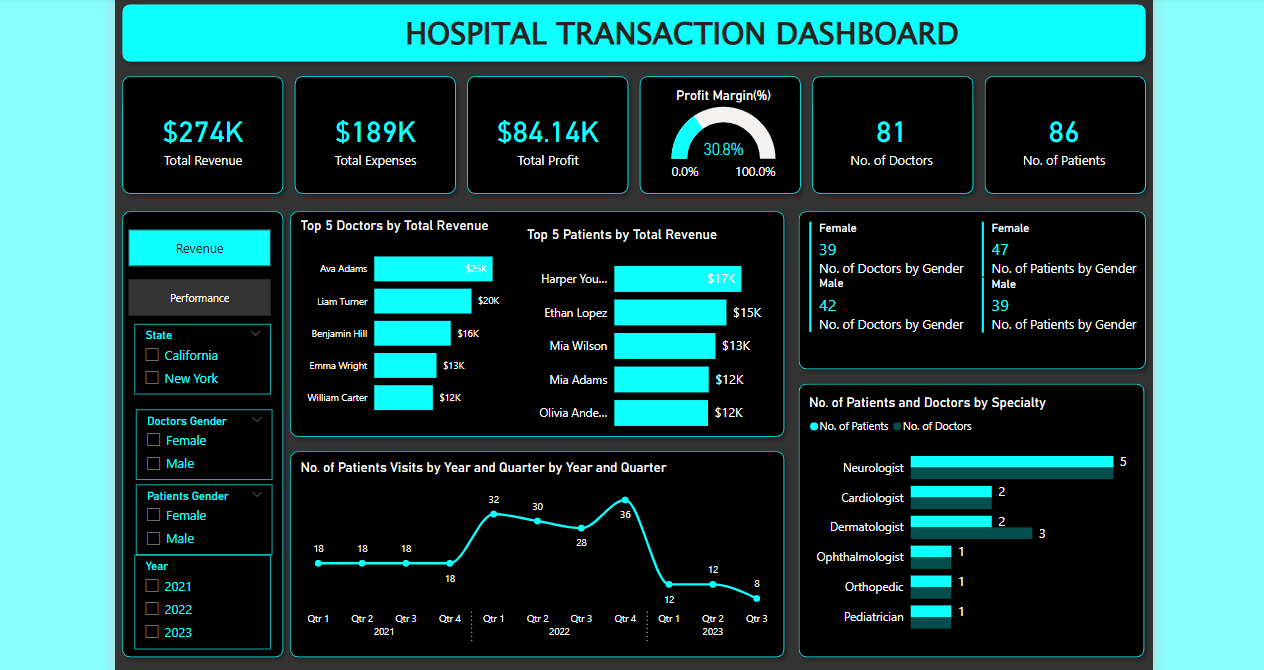

Layout of this report page (visuals, bound fields, positions):
{"tool":"powerbi","page":{"name":"Performance","canvas":[1300,850],"ordinal":1},"visuals":[{"type":"shape","box":[0,0,1299.4,90.1],"z":0},{"type":"shape","box":[0,90.1,219.7,165.2],"z":1000},{"type":"shape","box":[215.9,90.1,219.7,165.2],"z":2000},{"type":"shape","box":[1079.7,90.1,219.7,165.2],"z":3000},{"type":"shape","box":[863.8,90.1,219.7,165.2],"z":4000},{"type":"shape","box":[647.8,90.1,219.7,165.2],"z":5000},{"type":"shape","box":[431.9,90.1,219.7,165.2],"z":6000},{"type":"shape","box":[0,259.1,219.7,576.5],"z":7000},{"type":"shape","box":[210.3,259.1,636.6,300.4],"z":8000},{"type":"shape","box":[210.3,559.6,636.6,276],"z":9000},{"type":"shape","box":[846.9,475.1,450.7,360.5],"z":10000},{"type":"shape","box":[846.9,259.1,452.6,215.9],"z":11000},{"type":"card","fields":{"Values":["Calculated Measure.Total Revenue"]},"box":[24.4,112.7,170.9,125.8],"z":12000},{"type":"card","fields":{"Values":["Calculated Measure.Total Expenses"]},"box":[240.4,112.7,170.9,125.8],"z":13000},{"type":"card","fields":{"Values":["Calculated Measure.Total Profit"]},"box":[456.3,112.7,170.9,125.8],"z":14000},{"type":"gauge","fields":{"Y":["Calculated Measure.Profit Margin(%)"]},"box":[676,112.7,170.9,125.8],"z":15000},{"type":"card","fields":{"Values":["CountNonNull(Doctors Dim.DoctorID)"]},"box":[886.3,112.7,170.9,125.8],"z":16000},{"type":"card","fields":{"Values":["CountNonNull(Patients Dim.PatientID)"]},"box":[1102.3,112.7,170.9,125.8],"z":17000},{"type":"lineChart","fields":{"Y":["CountNonNull(Hospital Transactions(Fact Table).PatientID)"],"Category":["Calender Dim.Date.Variation.Date Hierarchy.Year","Calender Dim.Date.Variation.Date Hierarchy.Quarter"]},"box":[227.2,578.4,602.8,238.5],"z":18000},{"type":"clusteredBarChart","title":"Top 5 Patients by Total Revenue","fields":{"Y":["Calculated Measure.Total Revenue"],"Category":["Patients Dim.Patients_Name"]},"box":[510.8,287.3,319.2,272.3],"z":19000},{"type":"slicer","fields":{"Values":["Location Dim.State"]},"box":[24.4,410,170.9,88.3],"z":20000},{"type":"slicer","fields":{"Values":["Doctors Dim.Doctor_Gender"]},"box":[26.3,516.4,170.9,88.3],"z":21000},{"type":"slicer","fields":{"Values":["Patients Dim.Patients_Gender"]},"box":[26.3,610.3,170.9,88.3],"z":22000},{"type":"slicer","fields":{"Values":["Calender Dim.Date.Variation.Date Hierarchy.Year"]},"box":[24.4,698.5,170.9,118.3],"z":23000},{"type":"clusteredBarChart","title":"Top 5 Doctors by Total Revenue","fields":{"Y":["Calculated Measure.Total Revenue"],"Category":["Doctors Dim.Doctors_Name"]},"box":[226.5,276.4,284.1,262.9],"z":24000},{"type":"clusteredBarChart","title":"No. of Patients and Doctors by Specialty","fields":{"Y":["Count(Patients Dim.PatientID)","Count(Hospital Transactions(Fact Table).DoctorID)"],"Category":["Doctors Dim.Specialty"]},"box":[863.8,497.6,409.4,313.6],"z":25000},{"type":"multiRowCard","fields":{"Values":["Doctors Dim.Doctor_Gender","CountNonNull(Doctors Dim.Doctor_Gender)"]},"box":[863.8,276,210.3,178.4],"z":26000},{"type":"multiRowCard","fields":{"Values":["Patients Dim.Patients_Gender","CountNonNull(Patients Dim.Patients_Gender)"]},"box":[1079.7,276,217.8,178.4],"z":27000},{"type":"pageNavigator","box":[16.9,291.1,178.4,108.9],"z":28000},{"type":"textbox","box":[285.4,13.1,848.8,77],"z":29000}]}

Visuals, with their boxes on the page's 1300x850 design canvas (x1, y1, x2, y2). These are canvas units, not pixel positions in the 1264x670 screenshot, which may show the page scaled, cropped or inside an application window:
shape: [0,0,1299,90]
shape: [0,90,220,255]
shape: [216,90,436,255]
shape: [1080,90,1299,255]
shape: [864,90,1084,255]
shape: [648,90,868,255]
shape: [432,90,652,255]
shape: [0,259,220,836]
shape: [210,259,847,560]
shape: [210,560,847,836]
shape: [847,475,1298,836]
shape: [847,259,1300,475]
card - Calculated Measure.Total Revenue: [24,113,195,238]
card - Calculated Measure.Total Expenses: [240,113,411,238]
card - Calculated Measure.Total Profit: [456,113,627,238]
gauge - Calculated Measure.Profit Margin(%): [676,113,847,238]
card - CountNonNull(Doctors Dim.DoctorID): [886,113,1057,238]
card - CountNonNull(Patients Dim.PatientID): [1102,113,1273,238]
lineChart - CountNonNull(Hospital Transactions(Fact Table).PatientID) x Calender Dim.Date.Variation.Date Hierarchy.Year: [227,578,830,817]
"Top 5 Patients by Total Revenue" clusteredBarChart: [511,287,830,560]
slicer - Location Dim.State: [24,410,195,498]
slicer - Doctors Dim.Doctor_Gender: [26,516,197,605]
slicer - Patients Dim.Patients_Gender: [26,610,197,699]
slicer - Calender Dim.Date.Variation.Date Hierarchy.Year: [24,698,195,817]
"Top 5 Doctors by Total Revenue" clusteredBarChart: [226,276,511,539]
"No. of Patients and Doctors by Specialty" clusteredBarChart: [864,498,1273,811]
multiRowCard - Doctors Dim.Doctor_Gender x CountNonNull(Doctors Dim.Doctor_Gender): [864,276,1074,454]
multiRowCard - Patients Dim.Patients_Gender x CountNonNull(Patients Dim.Patients_Gender): [1080,276,1298,454]
pageNavigator: [17,291,195,400]
textbox: [285,13,1134,90]
